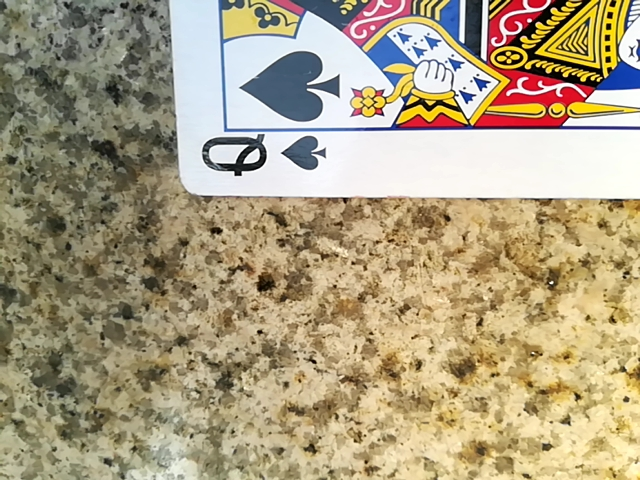ht q: (157, 0, 640, 192)
